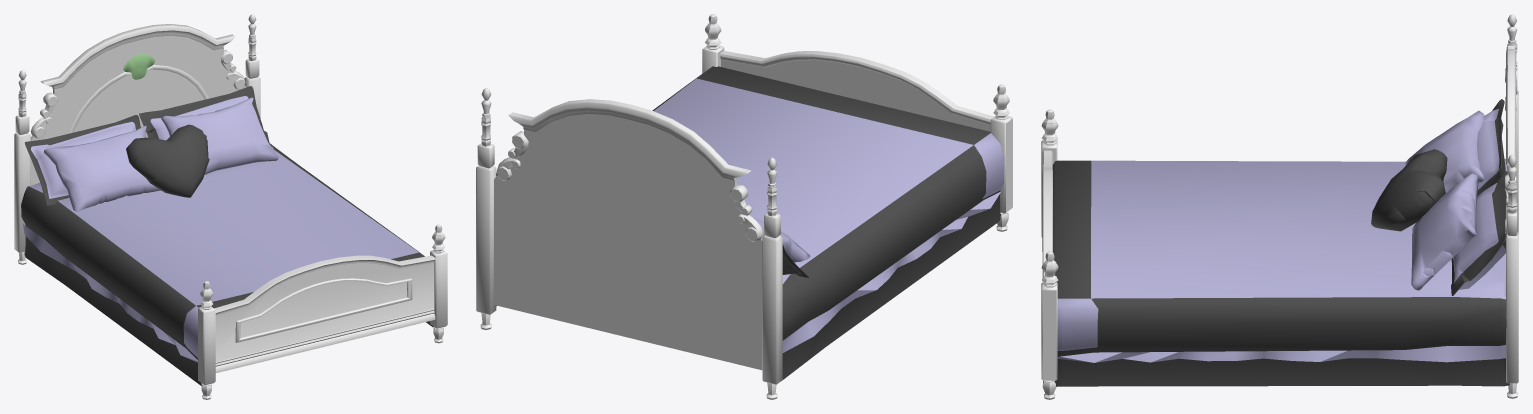
The model's file is DLHBD001.FBX.
3 views of the same model, side by side, from view 1: azimuth 30°, elevation 25°; view 2: azimuth 150°, elevation 25°; view 3: azimuth 270°, elevation 25° (orthographic). The views are drawn at different scales.
Parts seen in each view (by area): view 1: DLHBD001; view 2: DLHBD001; view 3: DLHBD001.
Part boxes in pixels (x1,y1,x2,y2): DLHBD001: (14, 14, 447, 399); DLHBD001: (476, 14, 1012, 399); DLHBD001: (1041, 14, 1518, 399).
Bounding box in the file's own units: 163 × 216 × 129.
